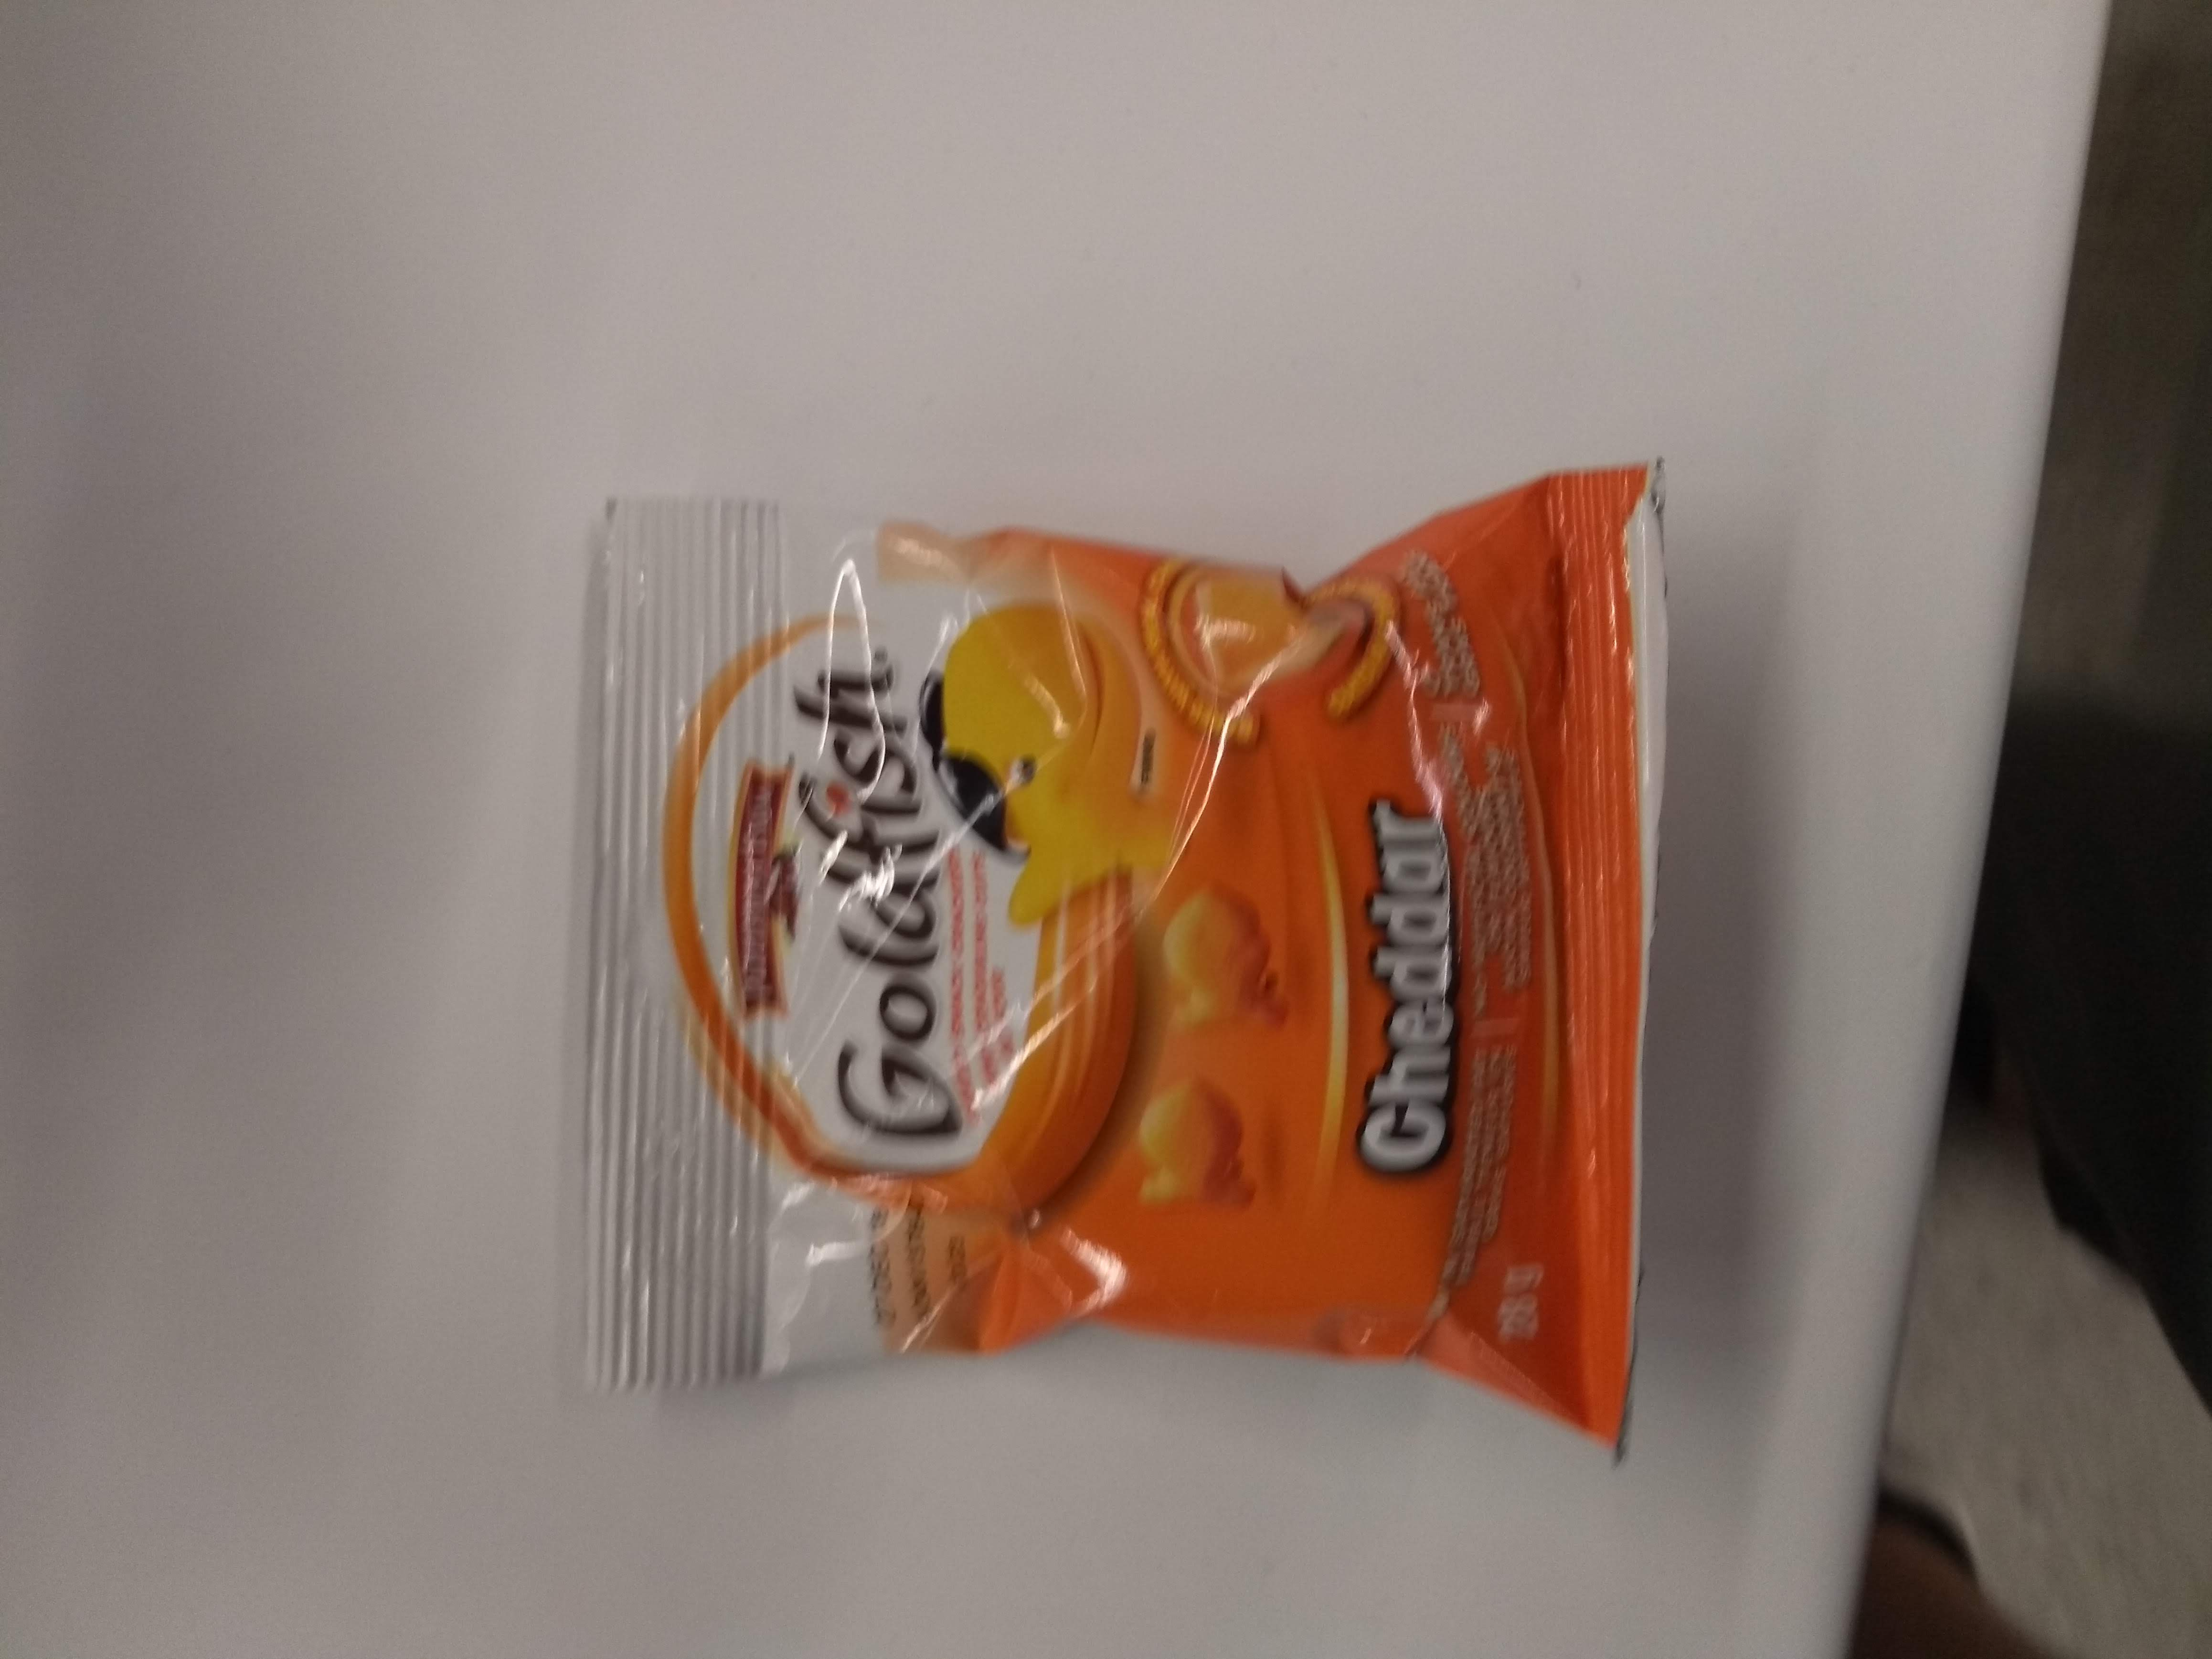crackers: (559, 437, 1677, 1497)
